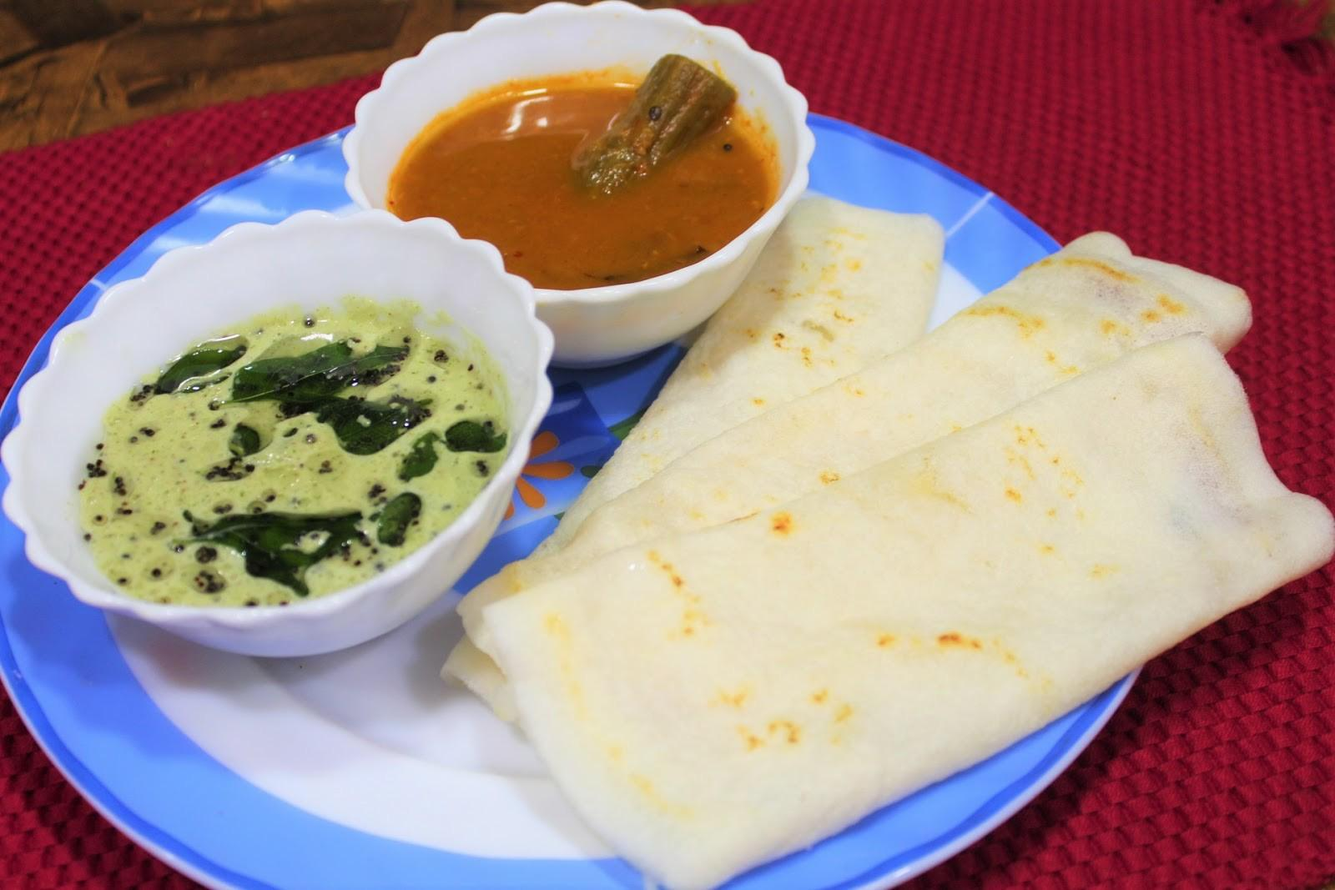CoconutChutney: (79, 299, 508, 610)
Dosa: (485, 333, 1335, 884), (456, 232, 1249, 680), (439, 195, 947, 728)
